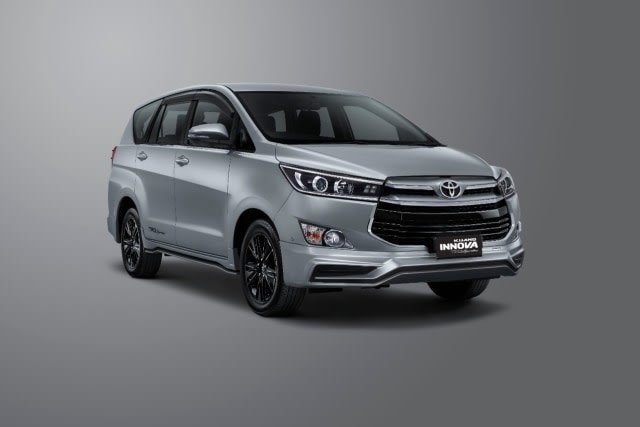mobil: (102, 75, 536, 319)
